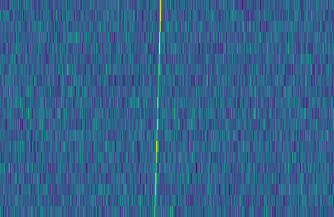signal: (149, 0, 164, 217)
